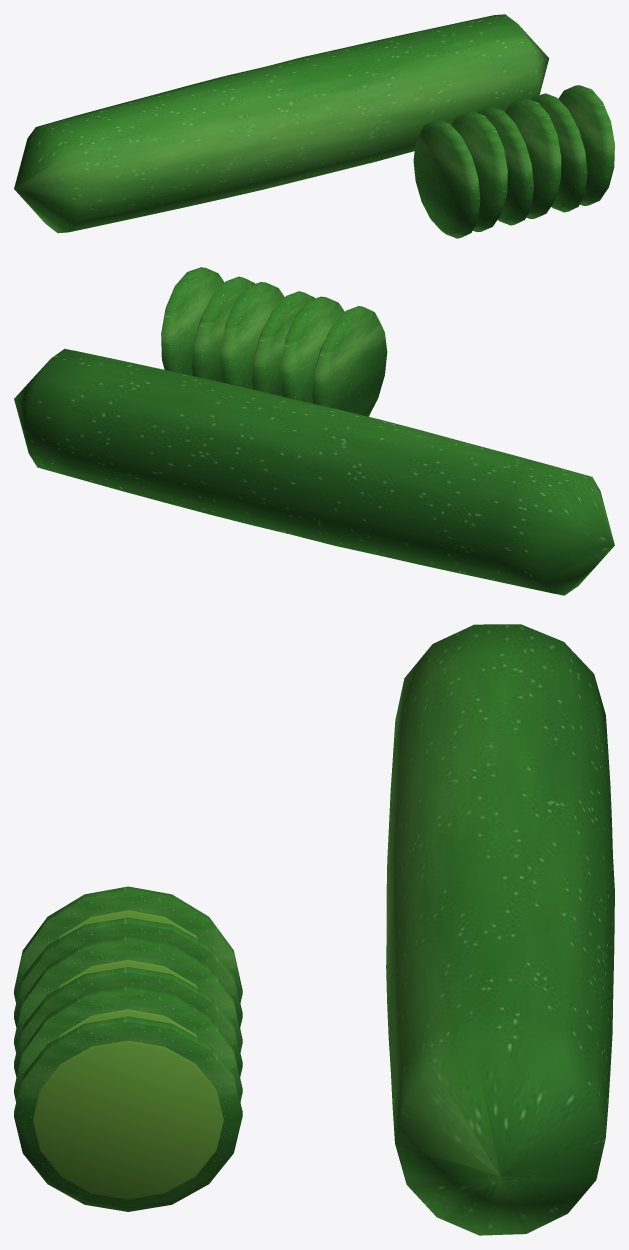
Rendered from veg_cucumbers_sliced.glb.
The picture shows the model from 3 angles, top to bottom: view 1: azimuth 30°, elevation 25°; view 2: azimuth 150°, elevation 25°; view 3: azimuth 270°, elevation 25°; orthographic projection. The views are drawn at different scales.
Visible parts, largest first — view 1: veg_cucumbers_sliced; view 2: veg_cucumbers_sliced; view 3: veg_cucumbers_sliced.
Boxes of the visible parts, x1=… form: veg_cucumbers_sliced: x1=14, y1=14, x2=614, y2=238; veg_cucumbers_sliced: x1=14, y1=267, x2=614, y2=595; veg_cucumbers_sliced: x1=14, y1=624, x2=614, y2=1235.
Bounding box in the file's own units: 0.2199 × 0.0432 × 0.1131.
2 materials, 1 textured.
